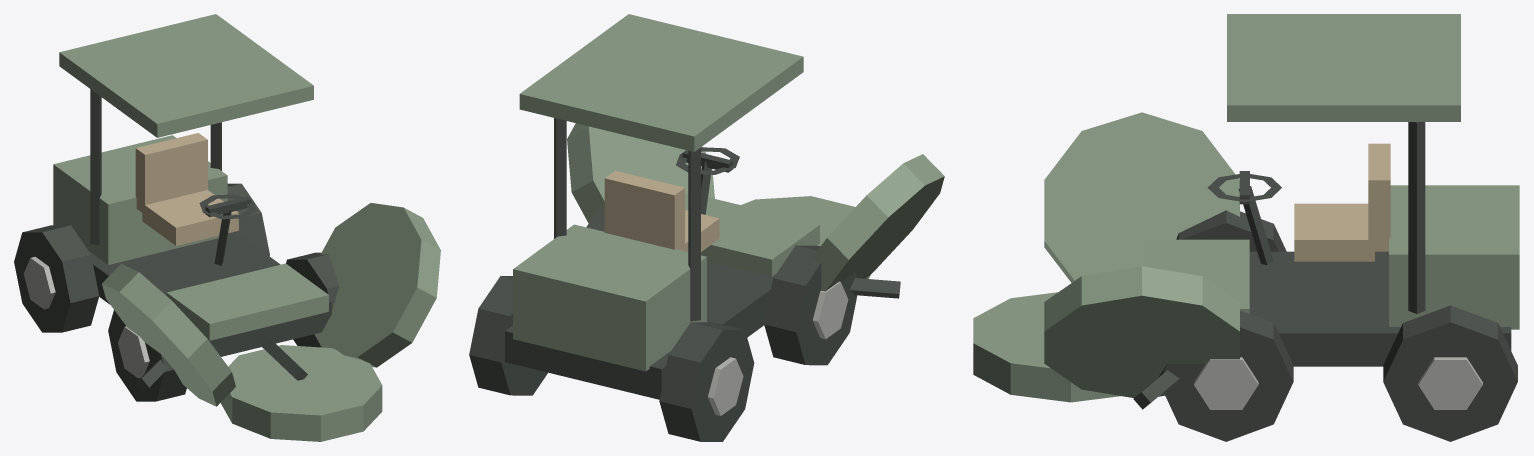
The model's file is rough_mower_03.glb.
The picture shows the model from 3 angles, left to right: view 1: azimuth 30°, elevation 25°; view 2: azimuth 150°, elevation 25°; view 3: azimuth 270°, elevation 25°; orthographic projection. The views are drawn at different scales.
Visible parts, largest first — view 1: Rough_mower_03; view 2: Rough_mower_03; view 3: Rough_mower_03.
Part boxes in pixels (x1,y1,x2,y2): Rough_mower_03: (14, 14, 440, 441); Rough_mower_03: (469, 14, 944, 441); Rough_mower_03: (973, 14, 1519, 441).
Size of the model in its own units: 2.31 by 1.98 by 3.02.
